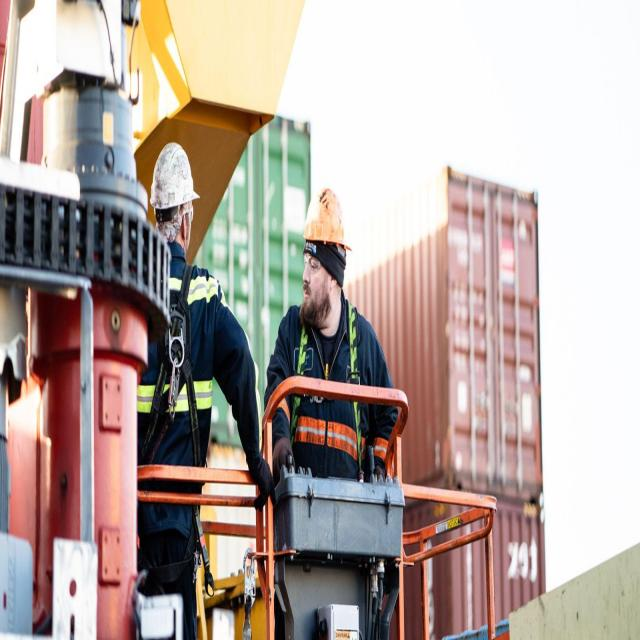Reflective-Jacket: (277, 304, 376, 478), (163, 250, 223, 430)
Safety-Helmet: (298, 178, 354, 258), (149, 133, 200, 214)
